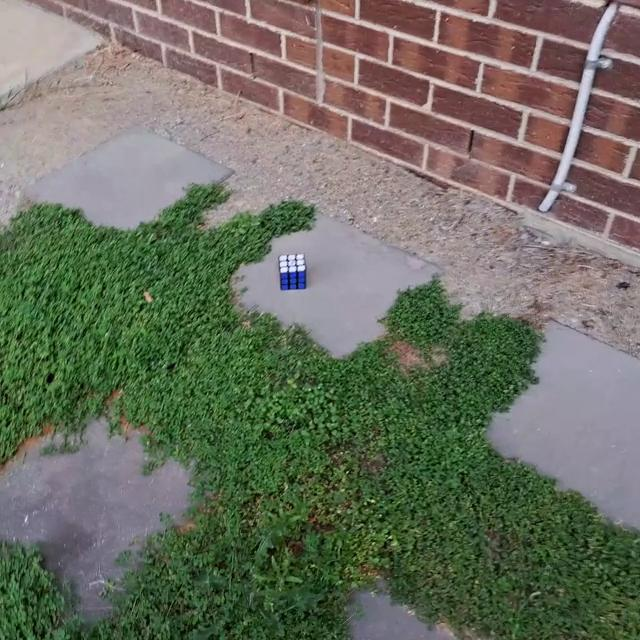rubix_cube: (276, 252, 309, 292)
